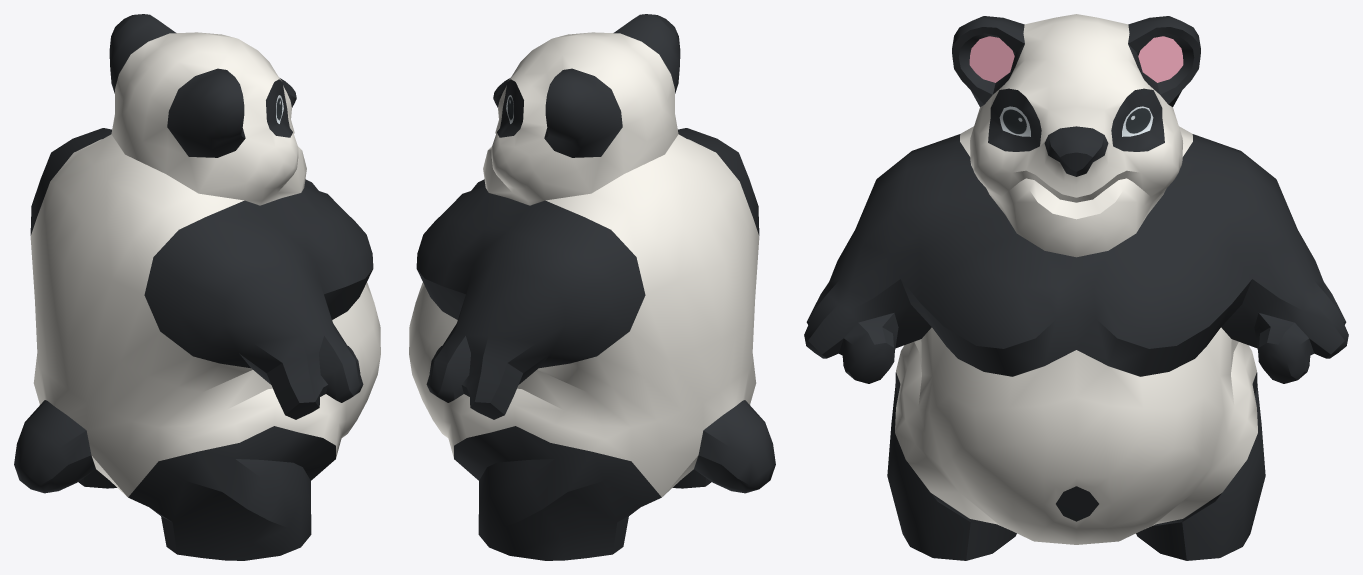
The model's file is panda_v3.fbx.
3 renders of one model, left to right at view 1: azimuth 30°, elevation 25°; view 2: azimuth 150°, elevation 25°; view 3: azimuth 270°, elevation 25°, orthographic. The views are drawn at different scales.
Visible parts, largest first — view 1: panda_v3; view 2: panda_v3; view 3: panda_v3.
Part boxes in pixels (x1,y1,x2,y2): panda_v3: (14, 14, 380, 560); panda_v3: (409, 14, 775, 560); panda_v3: (804, 14, 1348, 560).
Bounding box in the file's own units: 306 × 397 × 386.
Materials: 1 (1 with a texture image).
